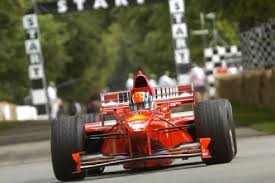f1_car: (48, 65, 244, 183)
